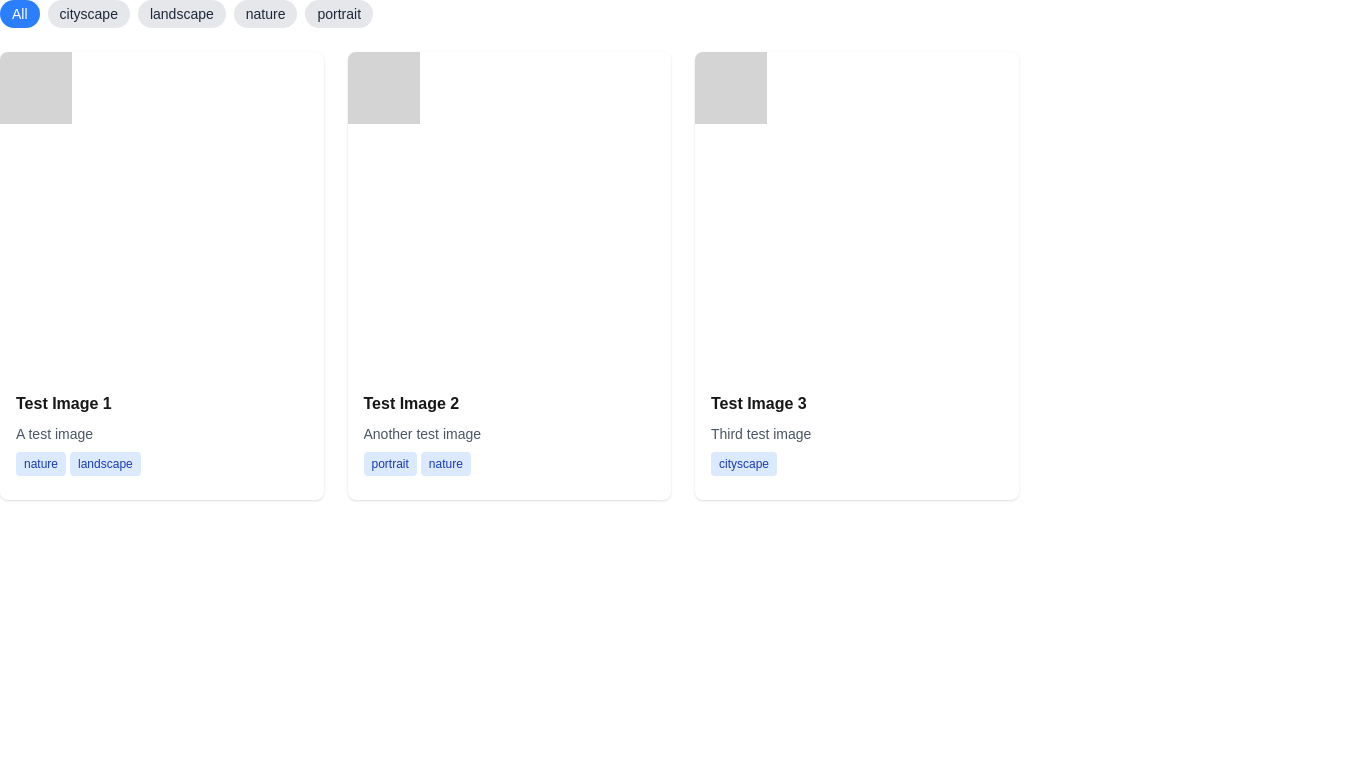
Test: ImageGrid › Accessibility and Interaction › handles keyboard navigation properly
# Click on the title (which has onClick handler)
Click the heading "Test Image 1" at (64, 403), box 16,394 -> 112,412
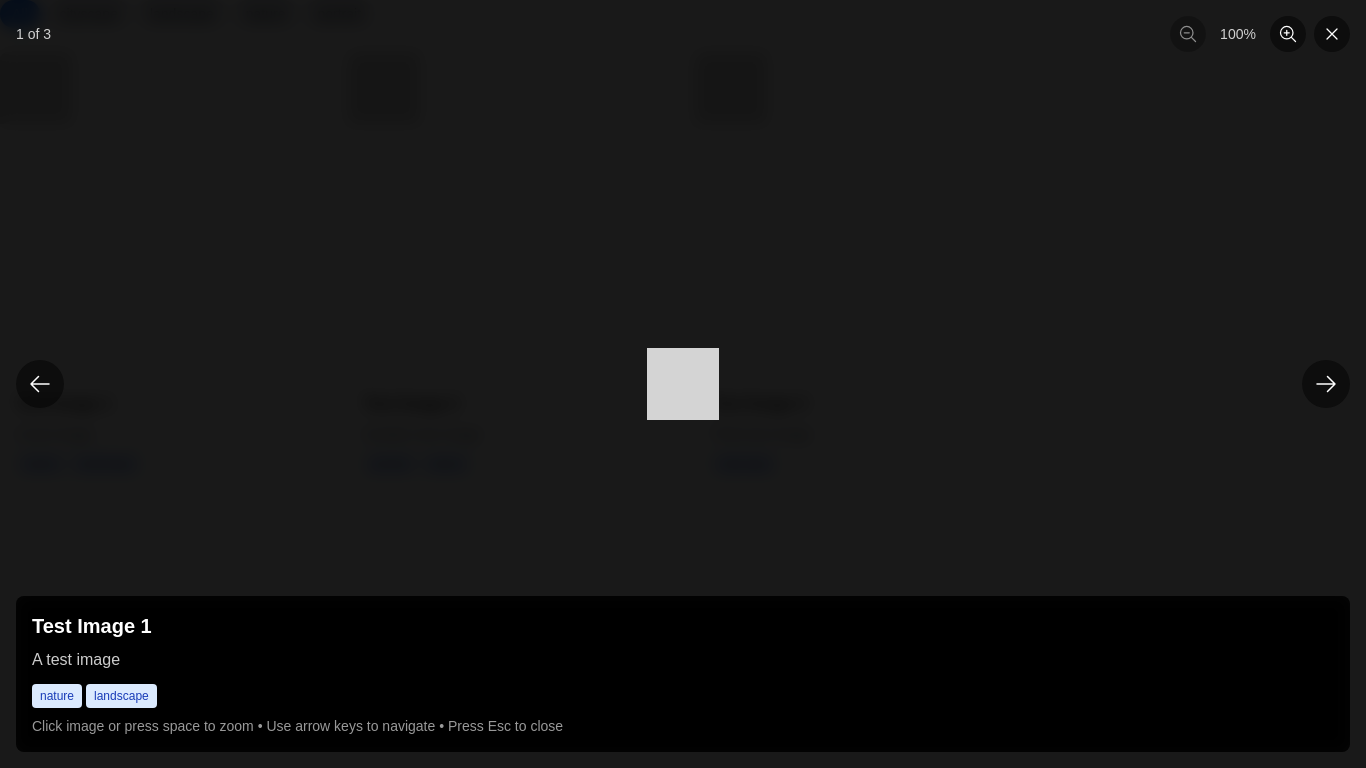
Expected: the dialog with test id "image-viewer-modal" is shown
